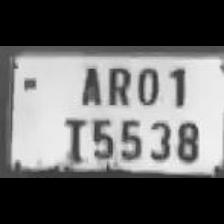0: (131, 63, 161, 107)
1: (162, 64, 192, 108)
3: (145, 115, 172, 163)
5: (115, 114, 143, 162), (87, 114, 115, 160)
8: (171, 116, 201, 164)
A: (73, 61, 103, 106)
R: (102, 63, 132, 107)
T: (56, 112, 89, 164)
